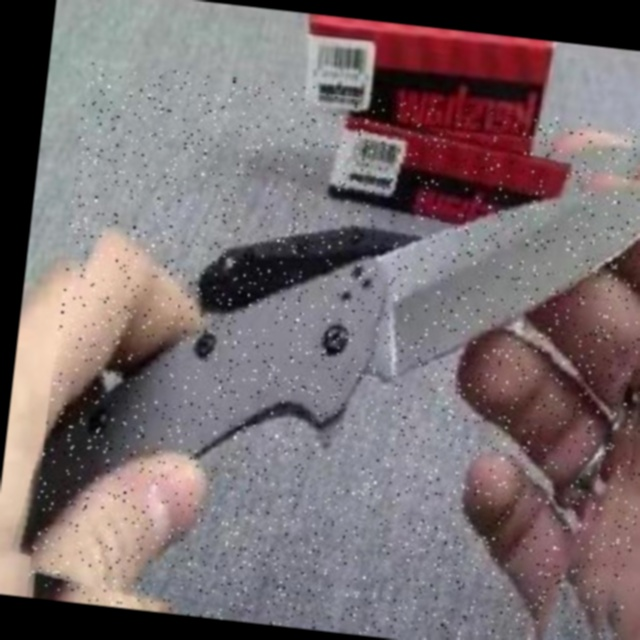Sharp-Object: (27, 61, 640, 640)
